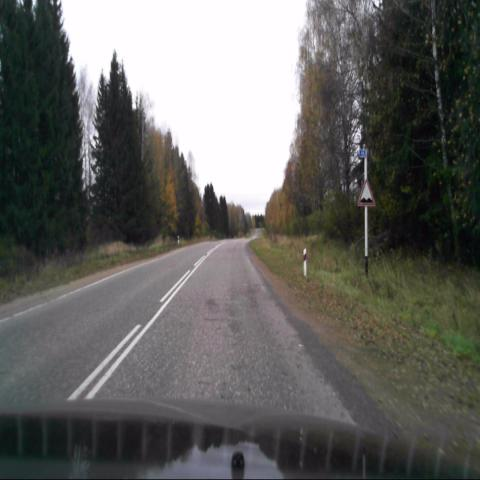1_16: (358, 179, 376, 206)
